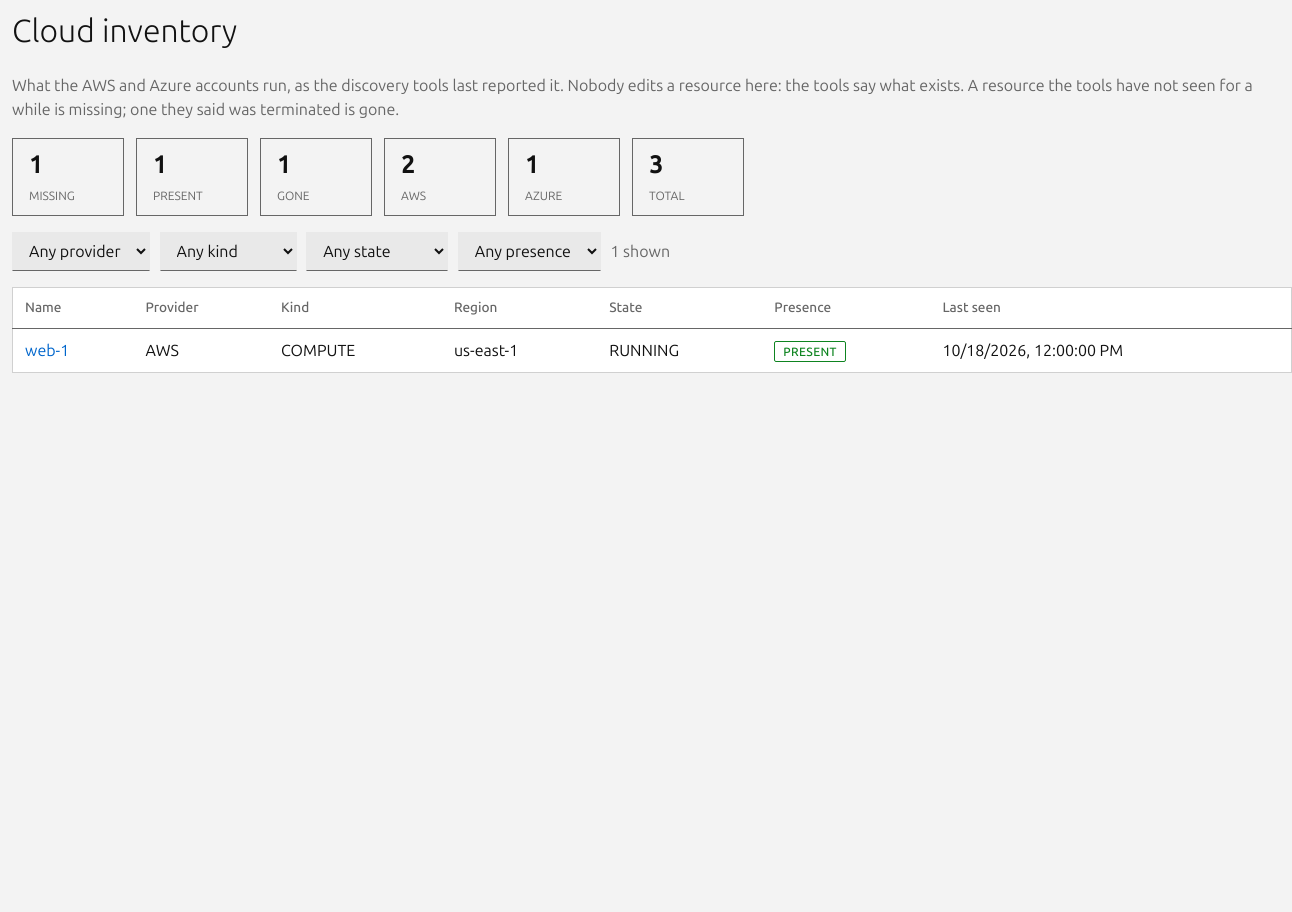
Test: one resource › opens the detail with the provider id, the account, the moments and the tags, and closes it
This screenshot has width=1292, height=912.
Click the button "web-1" at (47, 351), box x1=25 y1=339 x2=69 y2=363
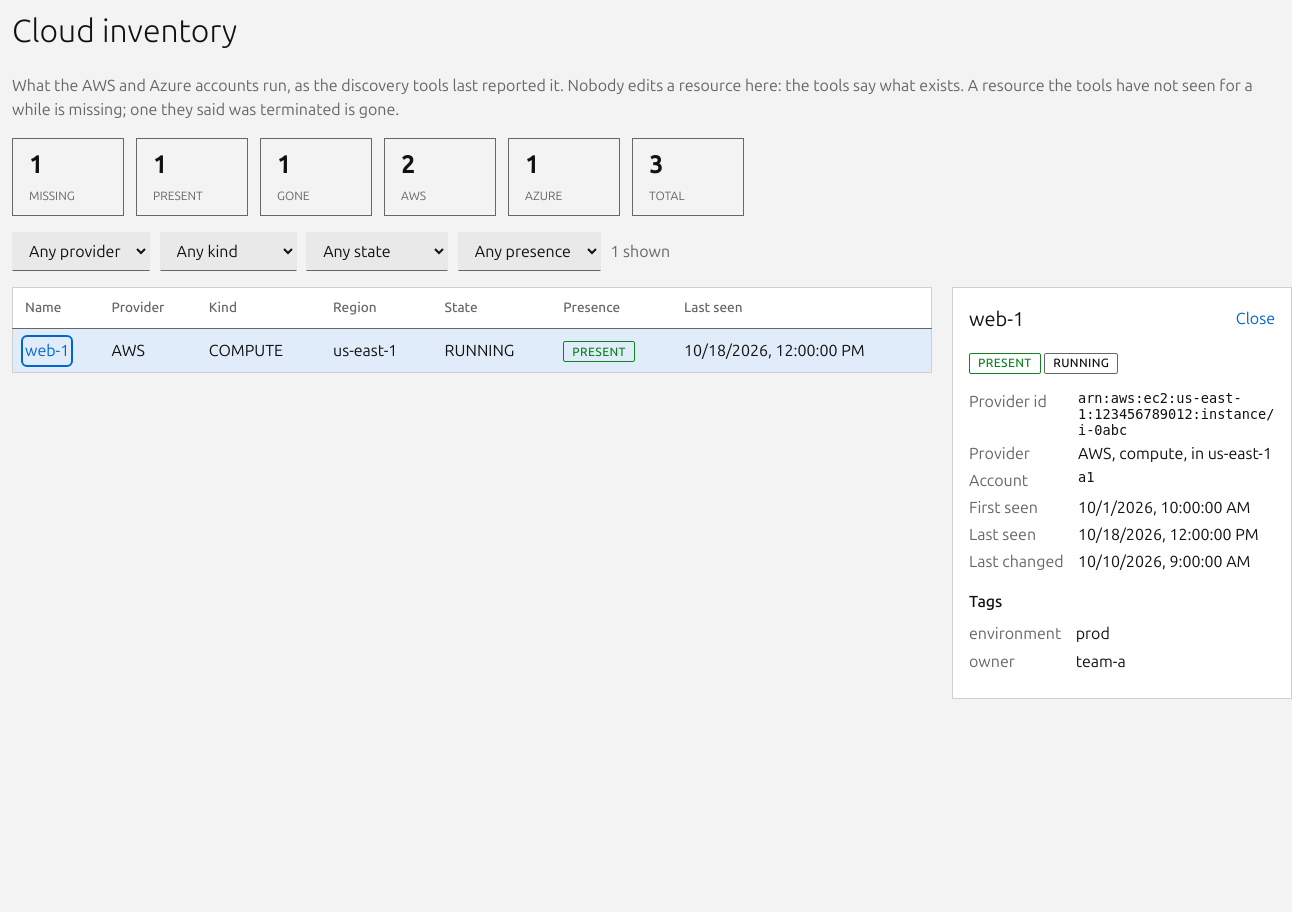
Now the text "arn:aws:ec2:us-east-1:123456789012:instance/i-0abc" is shown, box x1=1078 y1=390 x2=1275 y2=438
Now the text "a1" is shown, box x1=1078 y1=469 x2=1094 y2=485
Now the text "AWS, compute, in us-east-1" is shown, box x1=1078 y1=442 x2=1275 y2=466
Click the button "Close" at (1255, 319), box x1=1236 y1=307 x2=1275 y2=331
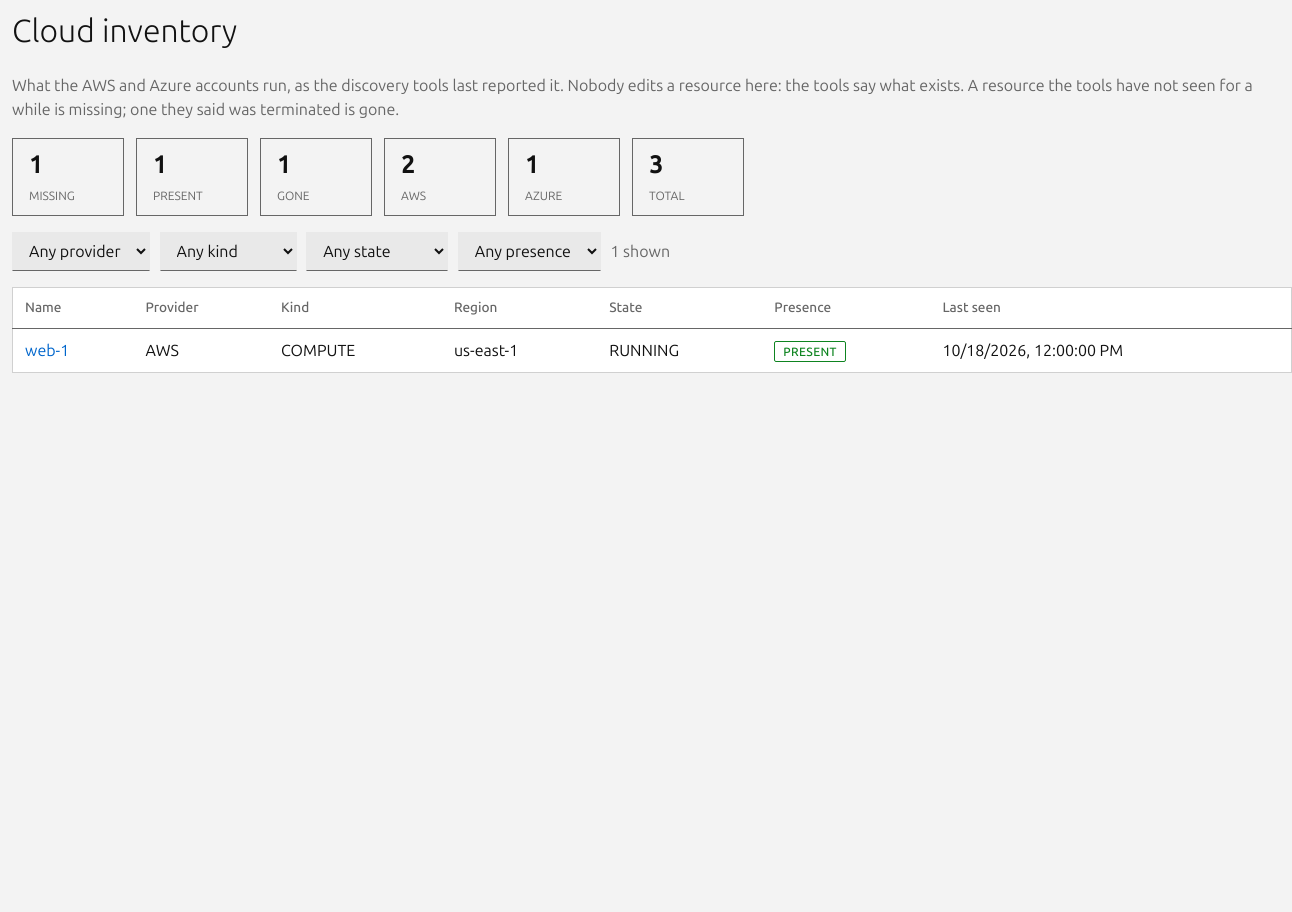
Now the element "Resource detail" is gone
